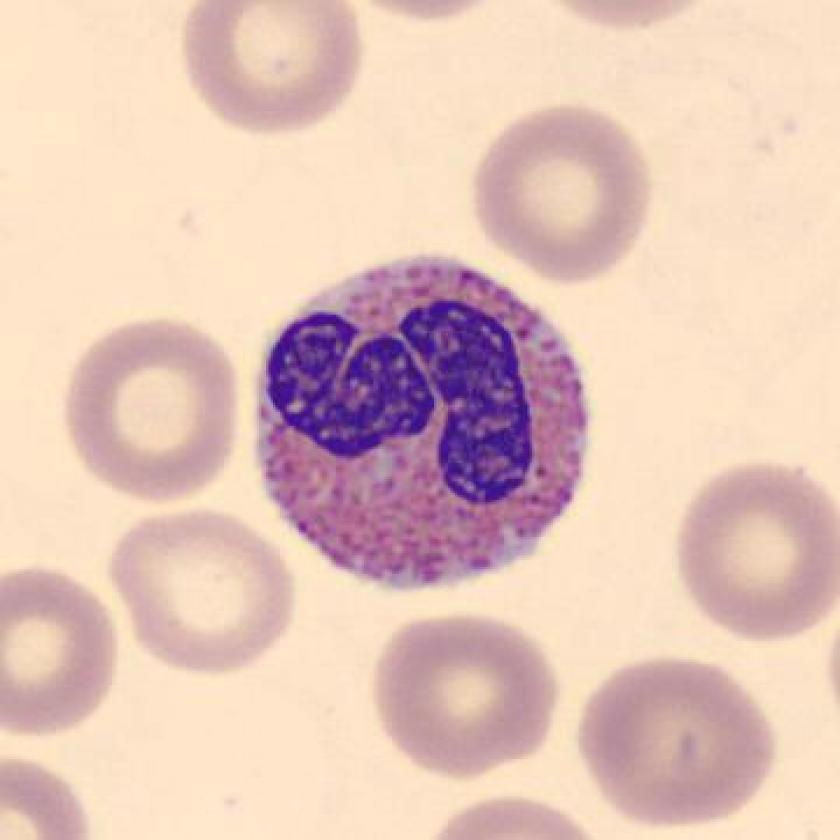eosinophil: (246, 240, 603, 608)
